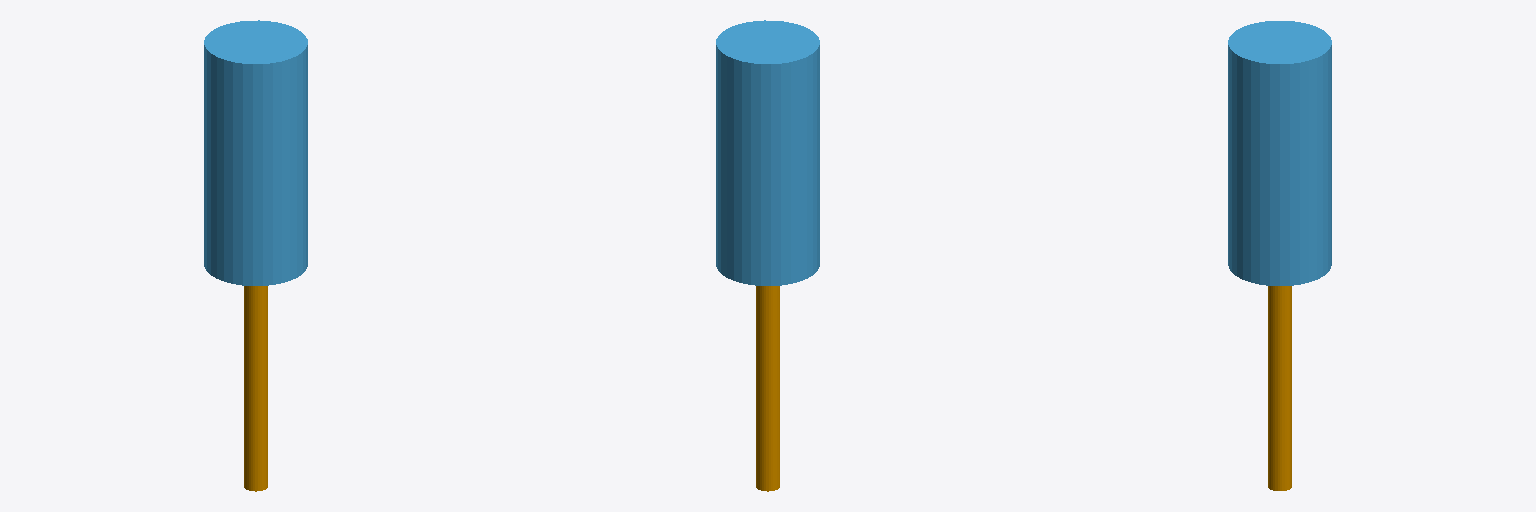
The robot description file, URDF, robot "screwdriver_on_the_table":
<?xml version="1.0" ?>
<!-- this is the one without any virtual joints and links -->
<robot name="screwdriver_on_the_table">
<link name="screwdriver_stick">
    <inertial>
      <mass value="0.05"/>
      <!-- <friction value="1.0"/> -->
      <inertia ixx="0.000041979" ixy="0.0" ixz="0.0" iyy="0.000041979" iyz="0.0" izz="0.000000625"/>
    </inertial>
    <visual>
        <origin rpy="0 0 0" xyz="0 0 0.05"/>
        <geometry>
            <cylinder radius="0.005" length="0.1"/>
        </geometry>
        <!-- <material name="White">
	 	    <color rgba="0.9 0.9 0.9 0.5"/>
        </material> -->
    </visual>
    <collision>
        <origin rpy="0 0 0" xyz="0 0 0.05"/>
        <geometry>
            <cylinder radius="0.005" length="0.1"/>
        </geometry>
    </collision>
</link>

<gazebo reference="screwdriver_body">
    <mu1>1.0</mu1>
    <mu2>1.0</mu2>
    <!-- Isaac Sim maps mu1/mu2 to PhysX static/dynamic friction during URDF→USD import -->
</gazebo>

<joint name="screwdriver_stick_body_joint" type="fixed">
    <parent link="screwdriver_stick"/>
    <child link="screwdriver_body"/>
    <origin rpy="0 0 0" xyz="0 0 0.1"/> 
    <axis xyz="0 0 1"/>
</joint>

<link name="screwdriver_body">
    <inertial>
      <mass value="0.1"/>
      <inertia ixx="0.000094596" ixy="0.0" ixz="0.0" iyy="0.000094596" iyz="0.0" izz="0.000022525"/>
    </inertial>
    <visual>
        <origin rpy="0 0 0" xyz="0 0 0.05"/>
        <geometry>
            <cylinder radius="0.021225" length="0.1"/>
        </geometry>
        <!-- <material name="Red1">
	 	    <color rgba="0.9 0. 0. 0.5"/>
        </material> -->
    </visual>
    <collision>
        <origin rpy="0 0 0" xyz="0 0 0.05"/>
        <geometry>
            <cylinder radius="0.021225" length="0.1"/>
        </geometry>
    </collision>
</link>

<!-- <joint name="screwdriver_body_cap_joint" type="revolute">
    <parent link="screwdriver_body"/>
    <child link="screwdriver_cap"/>
    <origin rpy="0 0 0" xyz="0 0 0.1"/> 
    <axis xyz="0 0 1"/>
</joint>

<link name="screwdriver_cap">
    <inertial>
      <mass value="0.005"/>
      <inertia ixx="0.00001" ixy="0.0" ixz="0.0" iyy="0.000005" iyz="0.0" izz="0.000005"/>
    </inertial>
    <visual>
        <origin rpy="0 0 0" xyz="0 0 0.0006"/>
        <geometry>
            <cylinder radius="0.02" length="0.001"/>
        </geometry>
        <material name="Yellow">
	 	    <color rgba="0.9 0.9 0. 1.0"/>
        </material>
    </visual>
    <collision>
        <origin rpy="0 0 0" xyz="0 0 0.0005"/>
        <geometry>
            <cylinder radius="0.02" length="0.001"/>
        </geometry>
    </collision>
</link> -->

</robot>

--- Facts derived from the render (not from the file) ---
The picture shows the robot from 3 angles, left to right: view 1: azimuth 30°, elevation 25°; view 2: azimuth 150°, elevation 25°; view 3: azimuth 270°, elevation 25°; orthographic projection.
Model screwdriver_on_the_table with 2 links and 1 joints (1 fixed), rooted at screwdriver_stick, posed every joint at zero.
Visible links, largest first — view 1: screwdriver_body, screwdriver_stick; view 2: screwdriver_body, screwdriver_stick; view 3: screwdriver_body, screwdriver_stick.
Boxes of the visible links, left/top/right/bottom form: screwdriver_body: left=204, top=20, right=307, bottom=285; screwdriver_stick: left=244, top=286, right=267, bottom=491; screwdriver_body: left=716, top=20, right=819, bottom=285; screwdriver_stick: left=756, top=286, right=779, bottom=491; screwdriver_body: left=1228, top=21, right=1331, bottom=285; screwdriver_stick: left=1268, top=286, right=1291, bottom=490.
Bounding box of the posed robot: 0.0424 × 0.0424 × 0.2 m (x, y, z).
Geometry: primitives only (box / cylinder / sphere), no mesh files.
